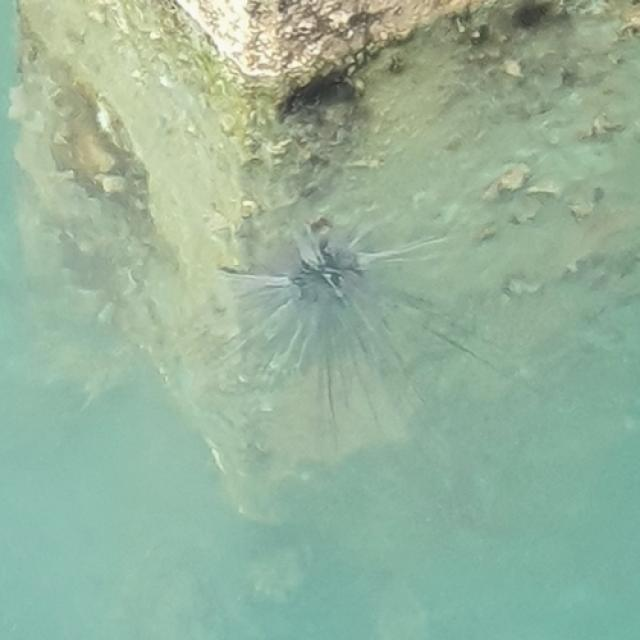Urchin: (216, 198, 497, 461)
